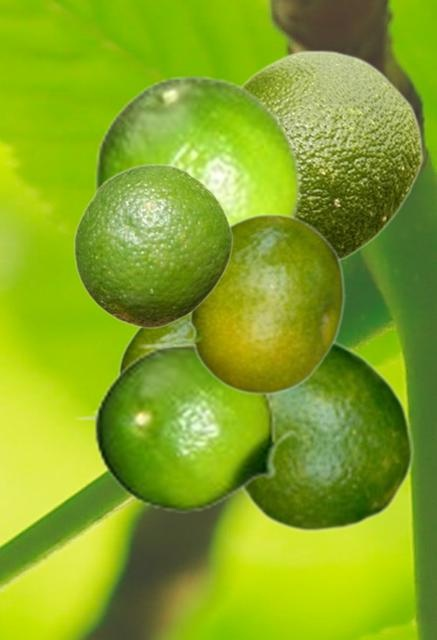calamansi: (241, 49, 422, 261), (137, 212, 344, 394), (93, 346, 296, 512), (241, 339, 414, 532), (94, 74, 301, 222), (73, 163, 232, 328), (74, 317, 192, 422)
